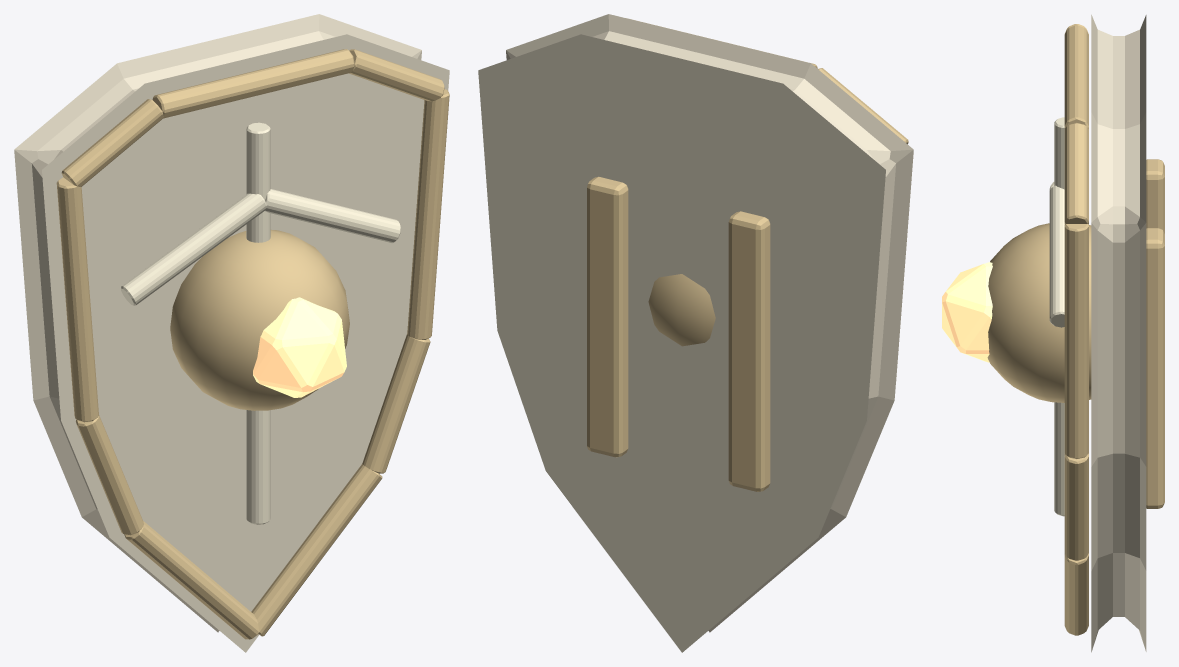
Rendered from warrior-shield-01-oathcrest.glb.
3 renders of one model, left to right at view 1: azimuth 30°, elevation 25°; view 2: azimuth 150°, elevation 25°; view 3: azimuth 270°, elevation 25°, orthographic.
Parts seen in each view (by area): view 1: warrior-shield-01-oathcrest_ShieldBack, warrior-shield-01-oathcrest_BossBase, warrior-shield-01-oathcrest_BossGem, warrior-shield-01-oathcrest_RaisedRim_4, warrior-shield-01-oathcrest_RaisedRim_9, warrior-shield-01-oathcrest_OathCross_Vertical, warrior-shield-01-oathcrest_RaisedRim_2, warrior-shield-01-oathcrest_RaisedRim_6, warrior-shield-01-oathcrest_OathCross_Left, warrior-shield-01-oathcrest_RaisedRim_7, warrior-shield-01-oathcrest_RaisedRim_5, warrior-shield-01-oathcrest_OathCross_Right (+3 smaller); view 2: warrior-shield-01-oathcrest_ShieldBack, warrior-shield-01-oathcrest_BackStrap_-1, warrior-shield-01-oathcrest_BackStrap_1, warrior-shield-01-oathcrest_BossBase; view 3: warrior-shield-01-oathcrest_ShieldBack, warrior-shield-01-oathcrest_BossBase, warrior-shield-01-oathcrest_RaisedRim_4, warrior-shield-01-oathcrest_BackStrap_1, warrior-shield-01-oathcrest_BossGem, warrior-shield-01-oathcrest_RaisedRim_5, warrior-shield-01-oathcrest_RaisedRim_3, warrior-shield-01-oathcrest_RaisedRim_2, warrior-shield-01-oathcrest_OathCross_Right, warrior-shield-01-oathcrest_OathCross_Vertical, warrior-shield-01-oathcrest_RaisedRim_6, warrior-shield-01-oathcrest_BackStrap_-1.
Boxes of the visible parts, x1,y1,x2,y2 form: warrior-shield-01-oathcrest_ShieldBack: [14, 14, 449, 652]; warrior-shield-01-oathcrest_BossBase: [170, 229, 349, 410]; warrior-shield-01-oathcrest_BossGem: [253, 297, 346, 397]; warrior-shield-01-oathcrest_RaisedRim_4: [407, 89, 449, 339]; warrior-shield-01-oathcrest_RaisedRim_9: [56, 177, 98, 422]; warrior-shield-01-oathcrest_OathCross_Vertical: [246, 122, 270, 524]; warrior-shield-01-oathcrest_RaisedRim_2: [152, 49, 354, 118]; warrior-shield-01-oathcrest_RaisedRim_6: [251, 464, 382, 636]; warrior-shield-01-oathcrest_OathCross_Left: [121, 193, 266, 305]; warrior-shield-01-oathcrest_RaisedRim_7: [124, 521, 259, 639]; warrior-shield-01-oathcrest_RaisedRim_5: [362, 333, 430, 473]; warrior-shield-01-oathcrest_OathCross_Right: [265, 189, 400, 243]; warrior-shield-01-oathcrest_ShieldBack: [478, 14, 913, 652]; warrior-shield-01-oathcrest_BackStrap_-1: [728, 211, 770, 491]; warrior-shield-01-oathcrest_BackStrap_1: [587, 176, 628, 457]; warrior-shield-01-oathcrest_BossBase: [648, 274, 715, 346]; warrior-shield-01-oathcrest_ShieldBack: [1091, 14, 1146, 652]; warrior-shield-01-oathcrest_BossBase: [987, 223, 1091, 402]; warrior-shield-01-oathcrest_RaisedRim_4: [1064, 224, 1088, 458]; warrior-shield-01-oathcrest_BackStrap_1: [1146, 228, 1164, 508]; warrior-shield-01-oathcrest_BossGem: [942, 262, 992, 362]; warrior-shield-01-oathcrest_RaisedRim_5: [1064, 453, 1088, 560]; warrior-shield-01-oathcrest_RaisedRim_3: [1064, 123, 1088, 223]; warrior-shield-01-oathcrest_RaisedRim_2: [1064, 25, 1088, 128]; warrior-shield-01-oathcrest_OathCross_Right: [1049, 185, 1064, 327]; warrior-shield-01-oathcrest_OathCross_Vertical: [1054, 117, 1064, 516]; warrior-shield-01-oathcrest_RaisedRim_6: [1064, 553, 1088, 635]; warrior-shield-01-oathcrest_BackStrap_-1: [1146, 159, 1164, 233].
Size of the model in its own units: 0.9774 by 1.36 by 0.4652.
